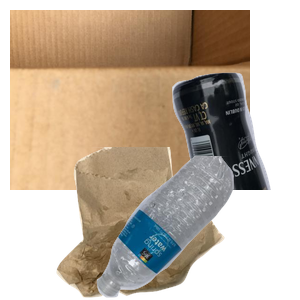cardboard: (10, 10, 250, 190)
glass: (106, 70, 300, 250)
plastic: (94, 156, 300, 300)
trash: (54, 147, 271, 300)
